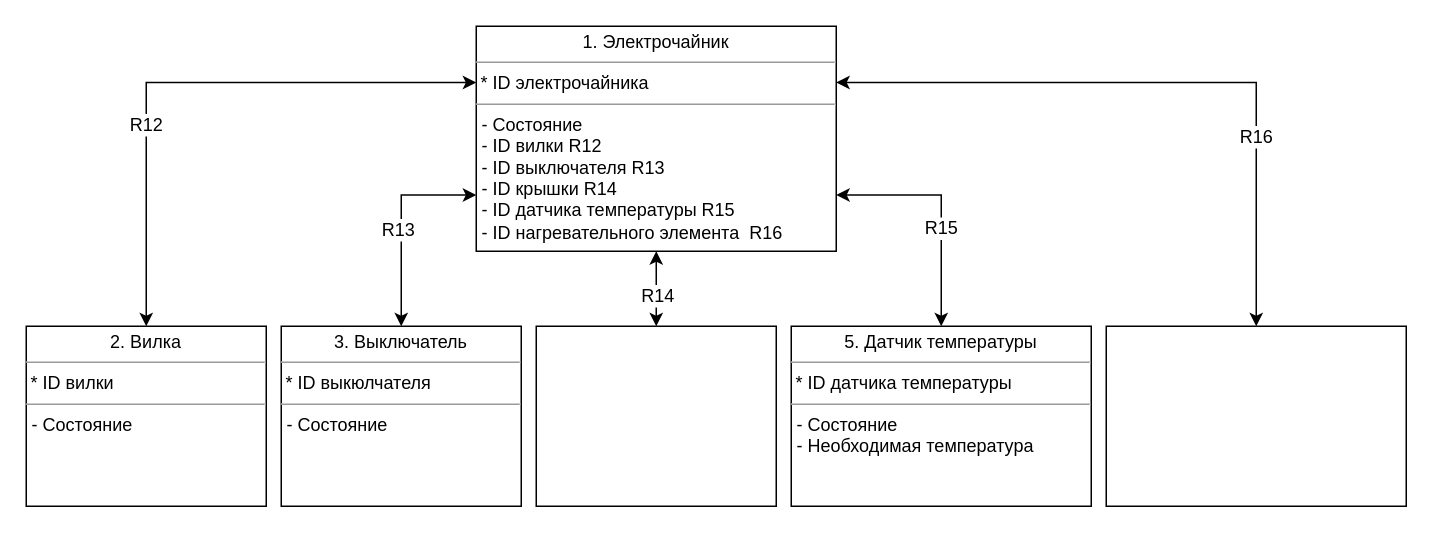
The diagram is 1433 pixels wide and 533 high, and some of its shapes have lost their labels. Each missing label, with the box of its shape:
4. Крышка * ID крышки - Состояние: (535, 325, 776, 506)
5. Нагревательный элемент * ID Нагревательного элемента - Состояние: (1105, 325, 1406, 506)
